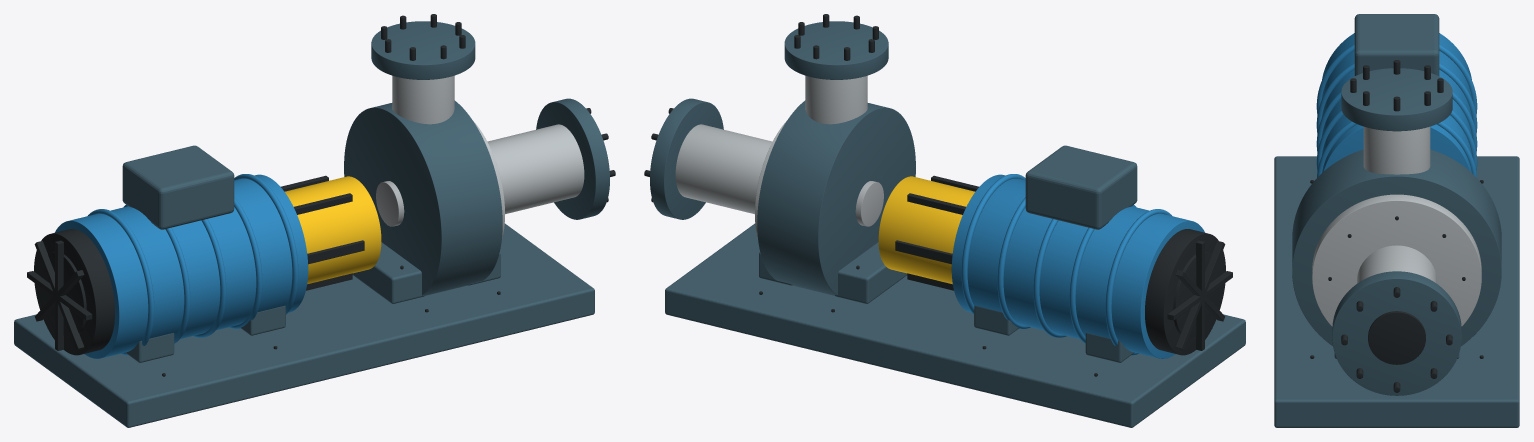
File: centrifugal_pump_skid.glb
3 views of the same model, side by side, from view 1: azimuth 30°, elevation 25°; view 2: azimuth 150°, elevation 25°; view 3: azimuth 270°, elevation 25° (orthographic). The views are drawn at different scales.
Visible parts, largest first — view 1: SKID, MOTOR_body, PUMP_volute, MOTOR_terminal, PUMP_suction, COUPLING_guard, PUMP_discharge_flange, MOTOR_fan_cover, PUMP_suction_flange, PUMP_discharge, PUMP_foot_0.42, ROTOR_motor_fan_hub (+9 smaller); view 2: SKID, MOTOR_body, PUMP_volute, MOTOR_terminal, PUMP_suction, COUPLING_guard, PUMP_discharge_flange, MOTOR_fan_cover, PUMP_suction_flange, PUMP_discharge, PUMP_foot_0.42, ROTOR_motor_fan_hub (+9 smaller); view 3: SKID, PUMP_volute, PUMP_front_cover, PUMP_suction_flange, PUMP_discharge_flange, MOTOR_body, MOTOR_terminal, PUMP_discharge, PUMP_suction_bore, PUMP_suction, MOTOR_fin_-1.05, MOTOR_fin_-0.85 (+3 smaller).
Boxes of the visible parts, box(x1,y1,x2,y2) form: SKID: box(14, 223, 594, 427); MOTOR_body: box(55, 174, 308, 358); PUMP_volute: box(344, 100, 502, 295); MOTOR_terminal: box(122, 145, 234, 229); PUMP_suction: box(487, 124, 584, 214); COUPLING_guard: box(285, 176, 381, 284); PUMP_discharge_flange: box(371, 21, 475, 79); MOTOR_fan_cover: box(34, 229, 114, 355); PUMP_suction_flange: box(536, 98, 609, 219); PUMP_discharge: box(392, 75, 454, 124); PUMP_foot_0.42: box(352, 242, 424, 303); ROTOR_motor_fan_hub: box(40, 252, 86, 337); SKID: box(665, 223, 1245, 427); MOTOR_body: box(951, 174, 1204, 358); PUMP_volute: box(757, 100, 915, 295); MOTOR_terminal: box(1025, 145, 1137, 229); PUMP_suction: box(675, 124, 772, 214); COUPLING_guard: box(878, 176, 974, 284); PUMP_discharge_flange: box(784, 21, 888, 79); MOTOR_fan_cover: box(1145, 229, 1225, 355); PUMP_suction_flange: box(650, 98, 723, 219); PUMP_discharge: box(805, 75, 867, 124); PUMP_foot_0.42: box(835, 242, 907, 303); ROTOR_motor_fan_hub: box(1173, 252, 1219, 337); SKID: box(1274, 156, 1519, 427); PUMP_volute: box(1292, 149, 1501, 345); PUMP_front_cover: box(1312, 194, 1481, 326); PUMP_suction_flange: box(1332, 271, 1461, 395); PUMP_discharge_flange: box(1341, 68, 1452, 131); MOTOR_body: box(1321, 33, 1472, 172); MOTOR_terminal: box(1354, 14, 1439, 75); PUMP_discharge: box(1363, 126, 1430, 174); PUMP_suction_bore: box(1368, 311, 1425, 364); PUMP_suction: box(1357, 245, 1436, 283); MOTOR_fin_-1.05: box(1316, 44, 1477, 114); MOTOR_fin_-0.85: box(1316, 63, 1477, 133).
Bounding box in the file's own units: 2.96 × 1.43 × 1.1.
